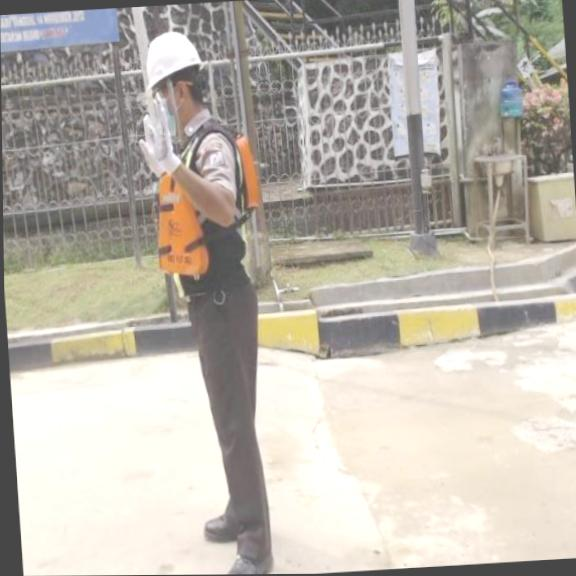safety_vest: (150, 138, 267, 288)
